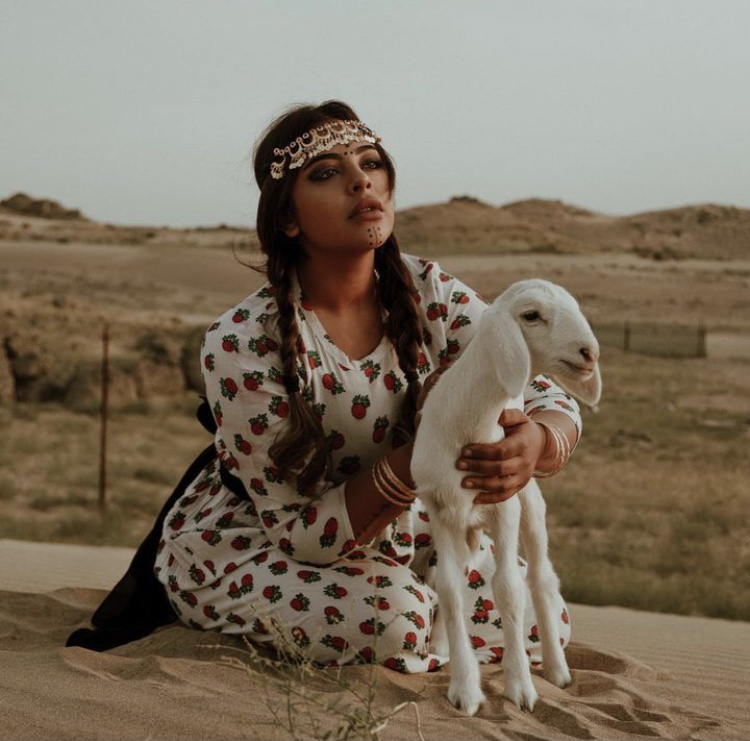Saudi_Founding_Day: (140, 95, 574, 677)
